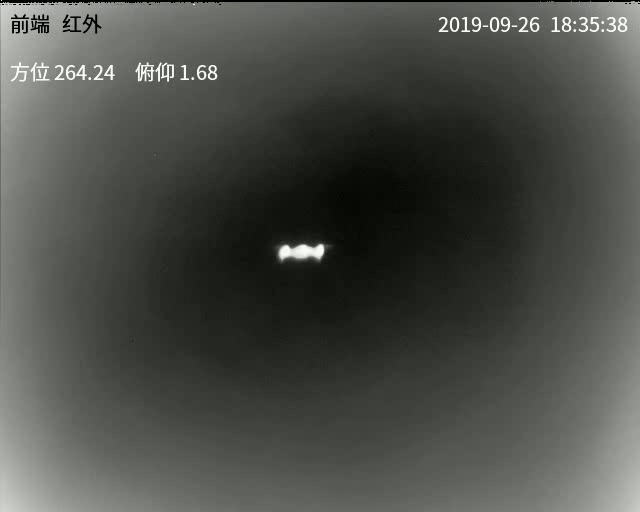DRONE: (277, 242, 326, 263)
